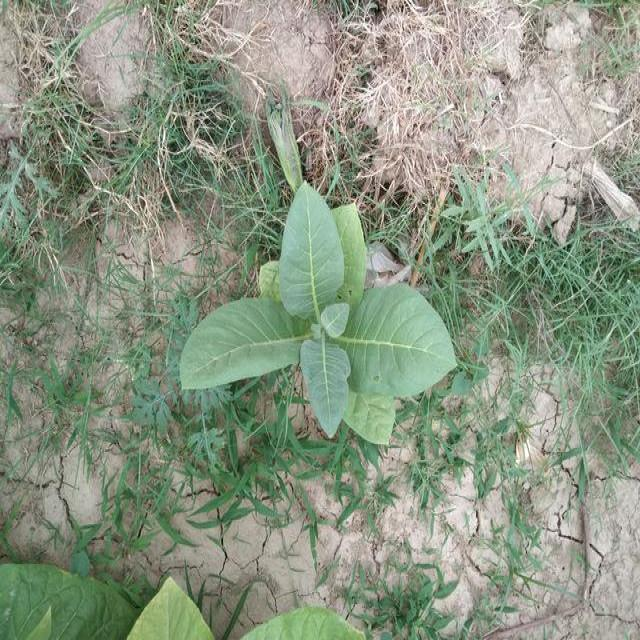crop: (169, 171, 471, 449)
